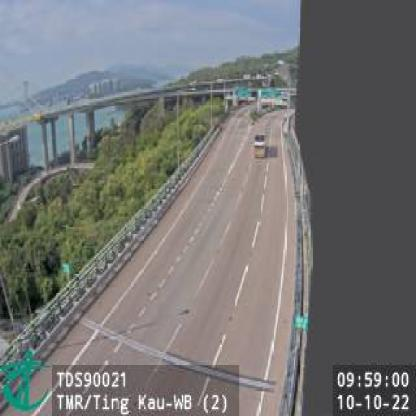Car: (253, 133, 267, 157)
